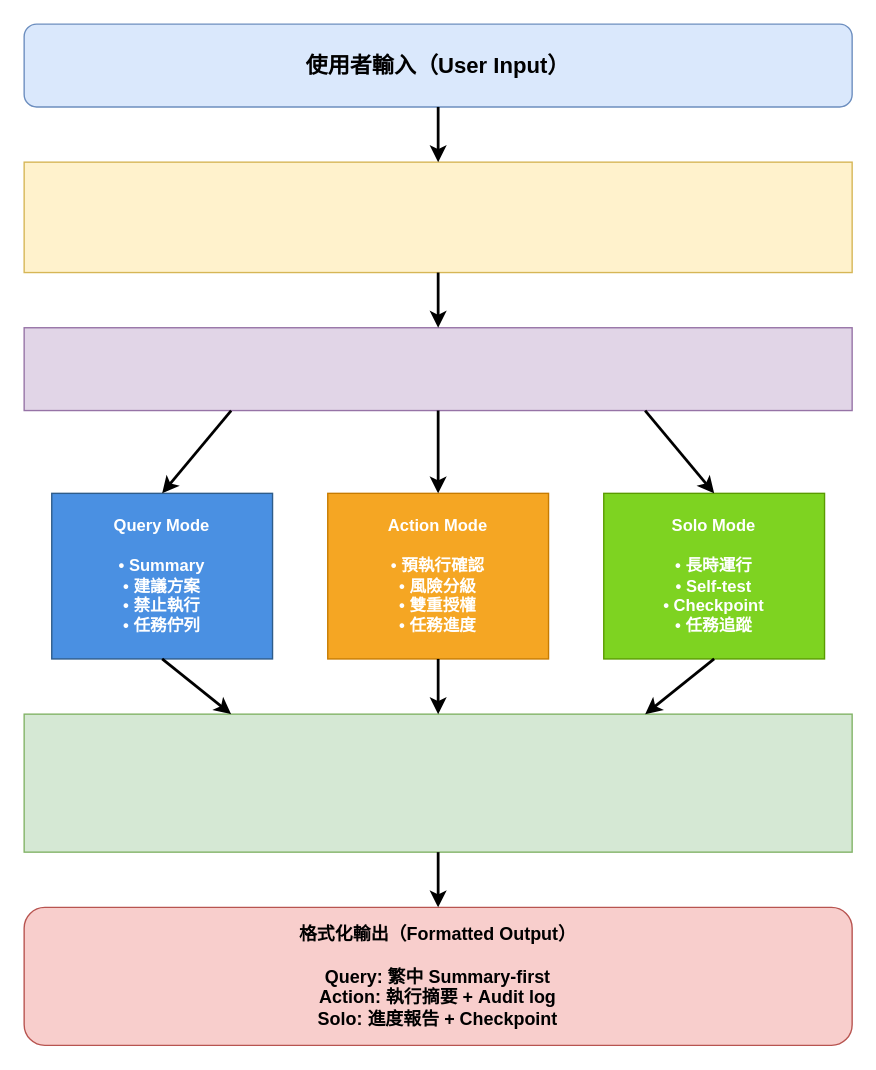
This 876x1070 diagram has some shape labels left out. Here are the shapes that lost their labels. From the top down, the box of each, then its label:
(23, 161, 852, 273): 多任務檢測（Multi-task Detection） 偵測：「和」「還有」「以及」、逗號、編號 → 是多任務？→ 讀取/更新 TASK_TRACKER.md
(23, 326, 852, 411): 觸發詞檢測（Trigger Detection） Solo 授權詞？→ Action 授權詞？→ 預設 Query
(23, 713, 852, 852): TASK_TRACKER.md（任務追蹤） • 任務佇列（待處理/進行中/已完成） • 任務優先級與依賴關係 • 執行進度與時間戳記
